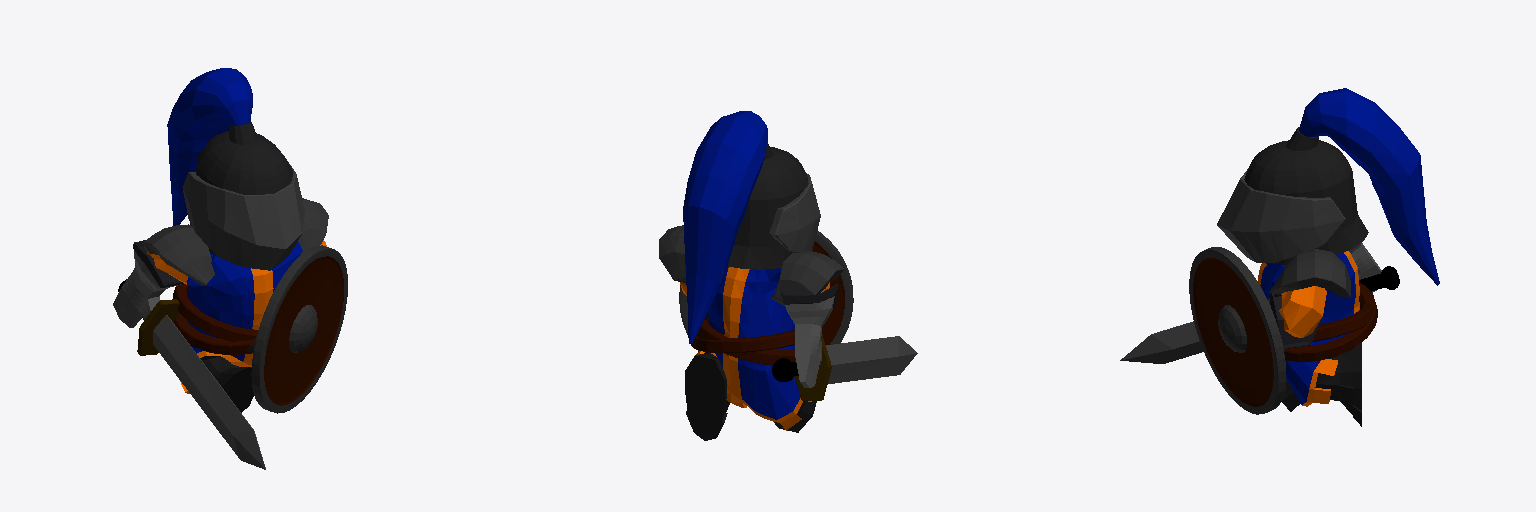
File: BlueTeam_SwordsMen_Unit.obj
3 renders of one model, left to right at view 1: azimuth 30°, elevation 25°; view 2: azimuth 150°, elevation 25°; view 3: azimuth 270°, elevation 25°, orthographic.
Visible parts, largest first — view 1: BlueTeam_SwordsMen_Helmet_Cylinder.007, Shield01_Cylinder, BlueTeam_SwordsMen_Armor_Cube.001, OneHand_Sword_Iron_Cylinder.001, BlueTeam_SwordsMen_Belt_Cylinder.002, BlueTeam_SwordsMen_Shoulders.R_Cylinder.010, BlueTeam_SwordsMen_Shoulders.L_Cylinder.003; view 2: BlueTeam_SwordsMen_Helmet_Cylinder.007, BlueTeam_SwordsMen_Armor_Cube.001, OneHand_Sword_Iron_Cylinder.001, BlueTeam_SwordsMen_Belt_Cylinder.002, BlueTeam_SwordsMen_Shoulders.R_Cylinder.010, Shield01_Cylinder, BlueTeam_SwordsMen_Shoulders.L_Cylinder.003; view 3: BlueTeam_SwordsMen_Helmet_Cylinder.007, Shield01_Cylinder, BlueTeam_SwordsMen_Armor_Cube.001, BlueTeam_SwordsMen_Belt_Cylinder.002, OneHand_Sword_Iron_Cylinder.001, BlueTeam_SwordsMen_Shoulders.L_Cylinder.003.
Part boxes in pixels (x1,y1,x2,y2): BlueTeam_SwordsMen_Helmet_Cylinder.007: (167, 68, 304, 270); Shield01_Cylinder: (251, 245, 347, 413); BlueTeam_SwordsMen_Armor_Cube.001: (113, 240, 326, 412); OneHand_Sword_Iron_Cylinder.001: (118, 279, 265, 469); BlueTeam_SwordsMen_Belt_Cylinder.002: (173, 284, 257, 354); BlueTeam_SwordsMen_Shoulders.R_Cylinder.010: (143, 224, 214, 285); BlueTeam_SwordsMen_Shoulders.L_Cylinder.003: (298, 198, 328, 254); BlueTeam_SwordsMen_Helmet_Cylinder.007: (683, 111, 820, 344); BlueTeam_SwordsMen_Armor_Cube.001: (680, 267, 838, 440); OneHand_Sword_Iron_Cylinder.001: (772, 335, 917, 400); BlueTeam_SwordsMen_Belt_Cylinder.002: (691, 314, 795, 365); BlueTeam_SwordsMen_Shoulders.R_Cylinder.010: (771, 251, 843, 305); Shield01_Cylinder: (679, 230, 853, 351); BlueTeam_SwordsMen_Shoulders.L_Cylinder.003: (659, 225, 685, 282); BlueTeam_SwordsMen_Helmet_Cylinder.007: (1217, 88, 1439, 285); Shield01_Cylinder: (1189, 247, 1285, 414); BlueTeam_SwordsMen_Armor_Cube.001: (1258, 243, 1381, 426); BlueTeam_SwordsMen_Belt_Cylinder.002: (1284, 283, 1377, 361); OneHand_Sword_Iron_Cylinder.001: (1120, 266, 1399, 363); BlueTeam_SwordsMen_Shoulders.L_Cylinder.003: (1269, 249, 1350, 297).
Size of the model in its own units: 1.15 by 2.01 by 1.77.